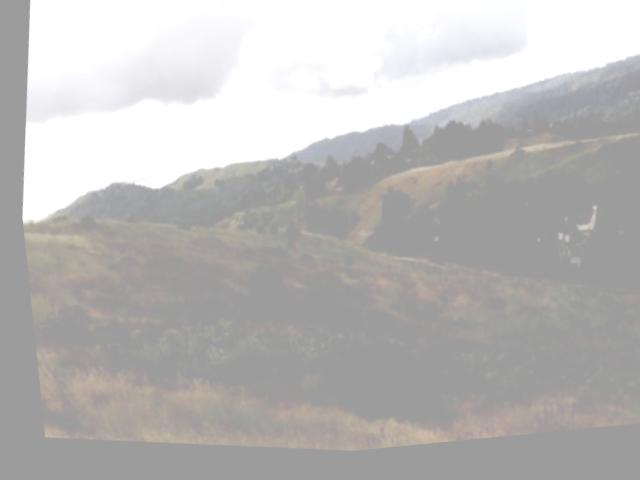iha: (162, 130, 190, 161)
